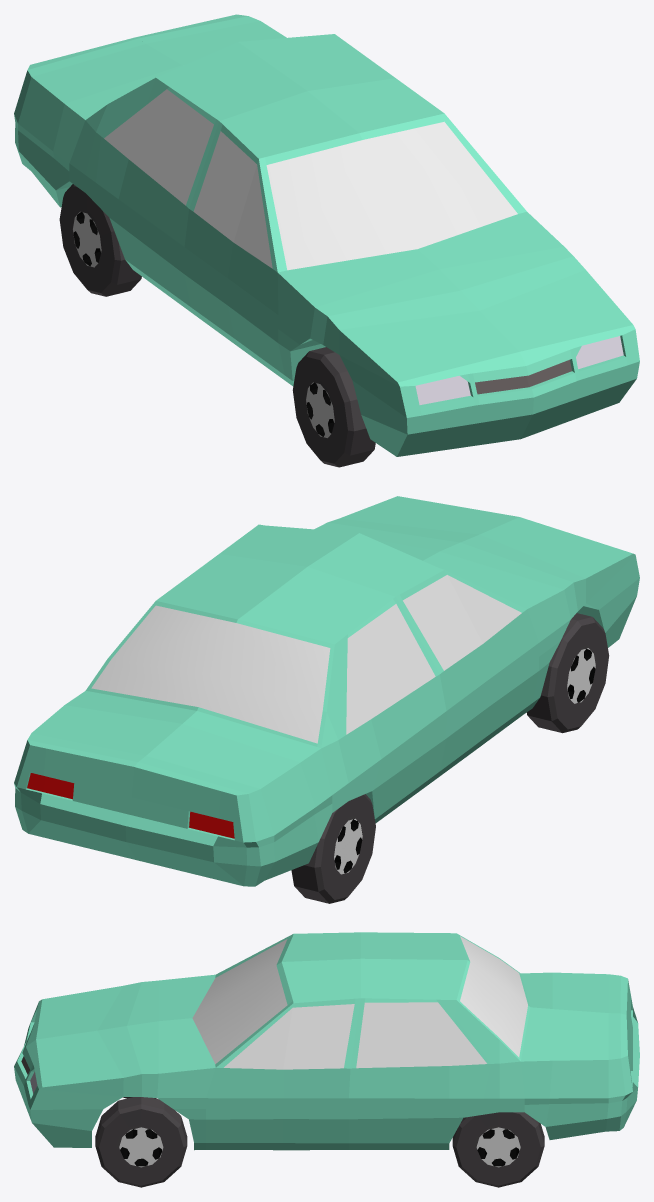
3 renders of one model, top to bottom at view 1: azimuth 30°, elevation 25°; view 2: azimuth 150°, elevation 25°; view 3: azimuth 270°, elevation 25°, orthographic. The views are drawn at different scales.
Parts seen in each view (by area): view 1: Cube, Cube.001, Cylinder; view 2: Cube, Cube.001, Cylinder; view 3: Cube, Cylinder, Cube.001.
Boxes of the visible parts, left/top/right/bottom form: Cube: left=14, top=14, right=639, bottom=456; Cube.001: left=266, top=121, right=517, bottom=270; Cylinder: left=59, top=184, right=375, bottom=467; Cube: left=14, top=496, right=639, bottom=886; Cube.001: left=91, top=605, right=330, bottom=743; Cylinder: left=291, top=613, right=609, bottom=903; Cube: left=14, top=932, right=639, bottom=1150; Cylinder: left=95, top=1097, right=544, bottom=1187; Cube.001: left=192, top=936, right=527, bottom=1063.
Bounding box in the file's own units: 221 × 190 × 594.
